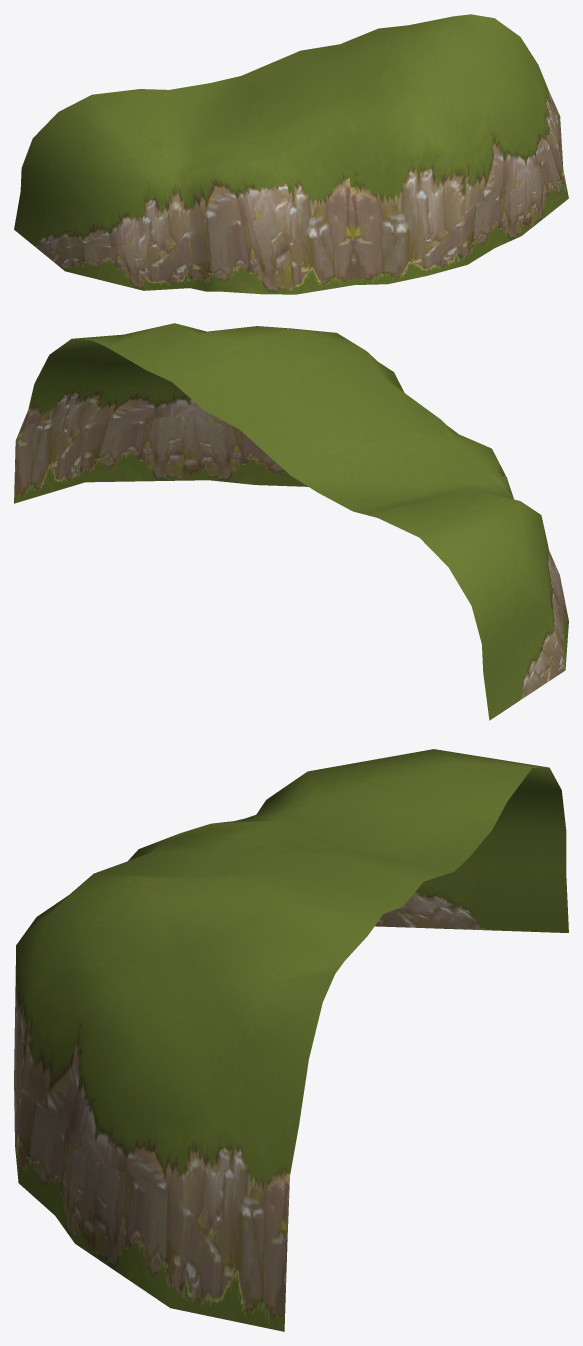
Rendered from gaoyuan_bianyuan_02 (9).fbx.
The picture shows the model from 3 angles, top to bottom: view 1: azimuth 30°, elevation 25°; view 2: azimuth 150°, elevation 25°; view 3: azimuth 270°, elevation 25°; orthographic projection. The views are drawn at different scales.
Visible parts, largest first — view 1: gaoyuan_bianyuan_02 (9); view 2: gaoyuan_bianyuan_02 (9); view 3: gaoyuan_bianyuan_02 (9).
Boxes of the visible parts, x1=… form: gaoyuan_bianyuan_02 (9): x1=14, y1=14, x2=568, y2=294; gaoyuan_bianyuan_02 (9): x1=14, y1=323, x2=568, y2=720; gaoyuan_bianyuan_02 (9): x1=14, y1=749, x2=568, y2=1331.
Size of the model in its own units: 8.52 by 3.04 by 4.85.
